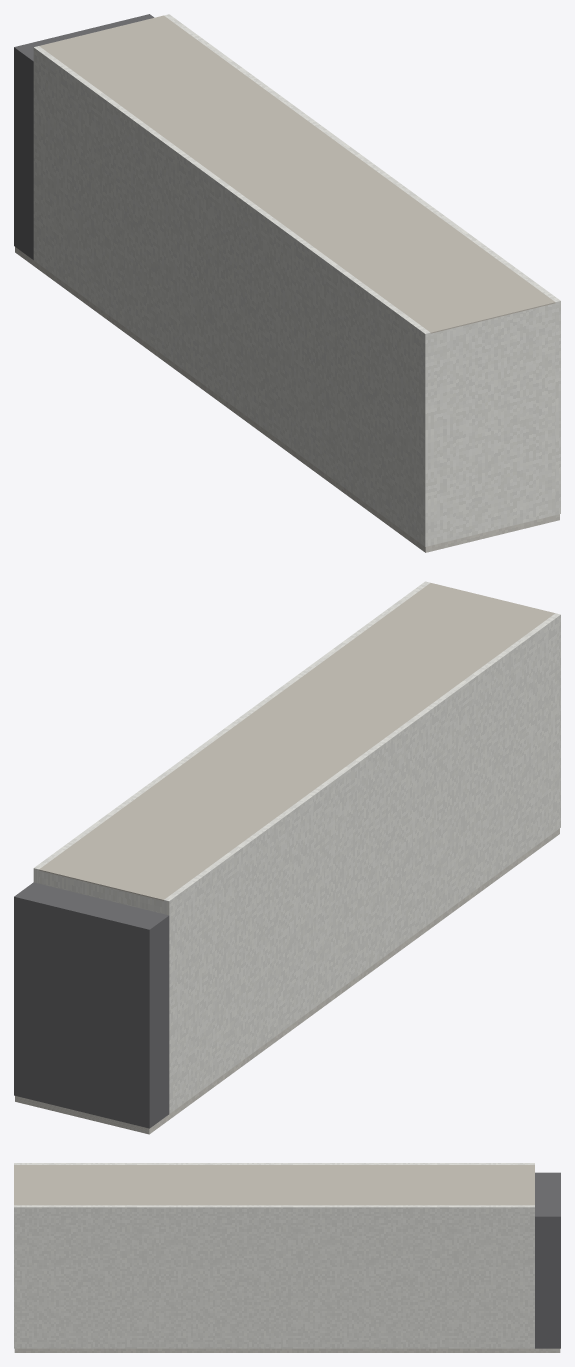
The model's file is tall_400.obj.
3 renders of one model, top to bottom at view 1: azimuth 30°, elevation 25°; view 2: azimuth 150°, elevation 25°; view 3: azimuth 270°, elevation 25°, orthographic. The views are drawn at different scales.
Parts seen in each view (by area): view 1: bokovina_levaya, zadnyaya_stenka, krysha, cokol, bokovina_pravaya, fasad_1; view 2: bokovina_levaya, zadnyaya_stenka, cokol, fasad_1, bokovina_pravaya, dno; view 3: bokovina_pravaya, zadnyaya_stenka, cokol, fasad_1, bokovina_levaya.
Part boxes in pixels (x1,y1,x2,y2): bokovina_levaya: [33, 46, 430, 546]; zadnyaya_stenka: [39, 15, 555, 333]; krysha: [430, 303, 555, 545]; cokol: [14, 14, 154, 259]; bokovina_pravaya: [164, 14, 560, 514]; fasad_1: [15, 247, 559, 552]; bokovina_levaya: [164, 613, 560, 1113]; zadnyaya_stenka: [39, 583, 555, 900]; cokol: [14, 882, 169, 1128]; fasad_1: [15, 828, 559, 1134]; bokovina_pravaya: [33, 581, 430, 883]; dno: [39, 870, 163, 913]; bokovina_pravaya: [14, 1205, 534, 1348]; zadnyaya_stenka: [14, 1165, 534, 1205]; cokol: [535, 1172, 560, 1348]; fasad_1: [14, 1348, 560, 1352]; bokovina_levaya: [14, 1163, 534, 1164].
Size of the model in its own units: 400 by 618 by 2100.
